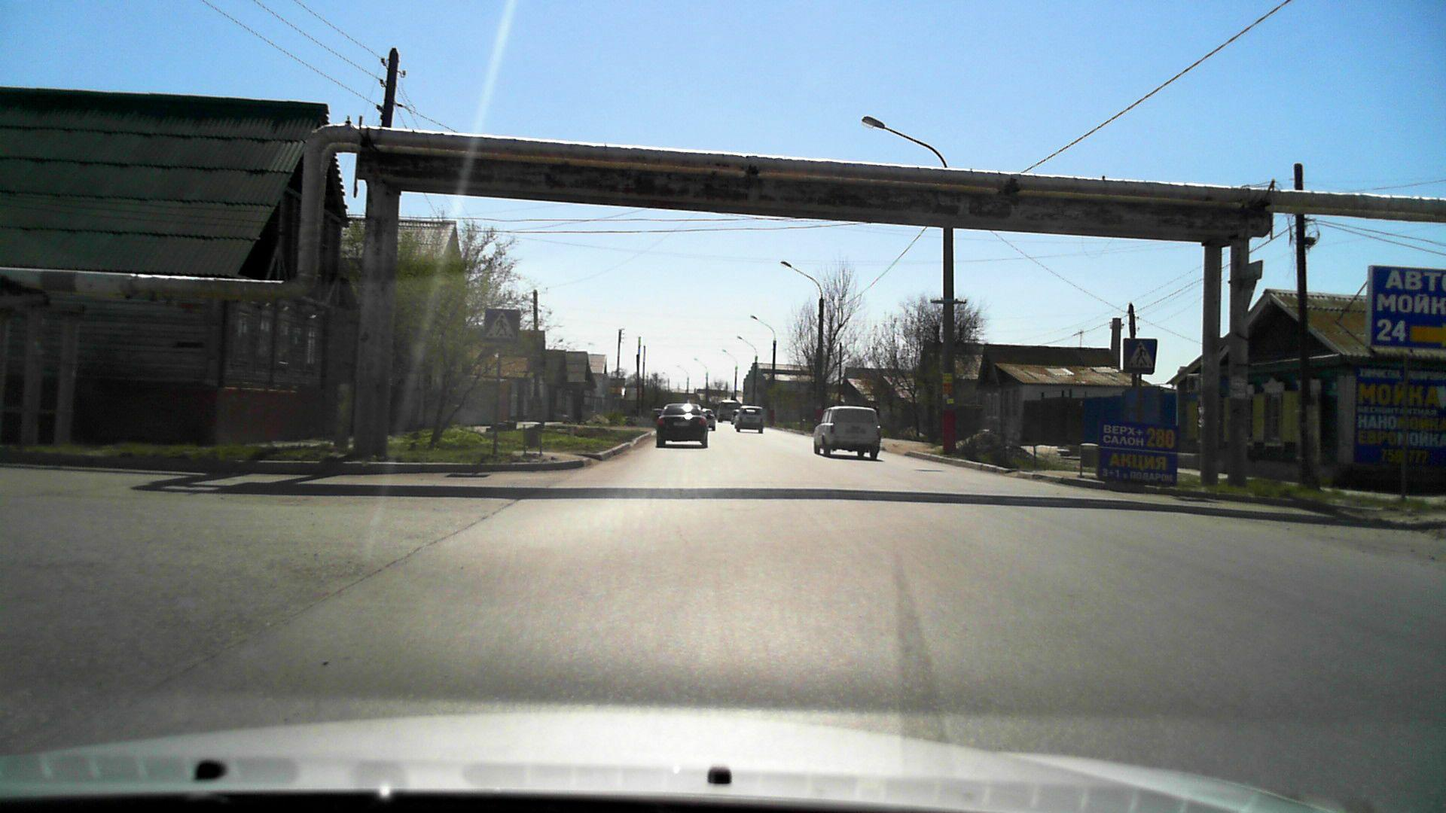road_sign: (482, 306, 522, 345), (1122, 338, 1157, 374)
